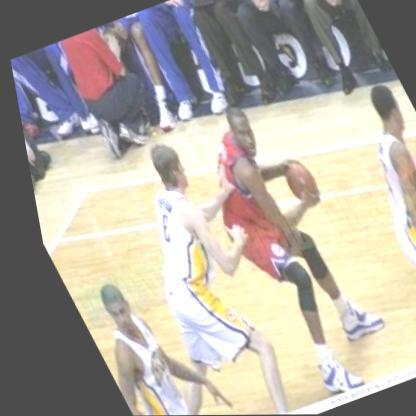basketball: (270, 152, 320, 210)
